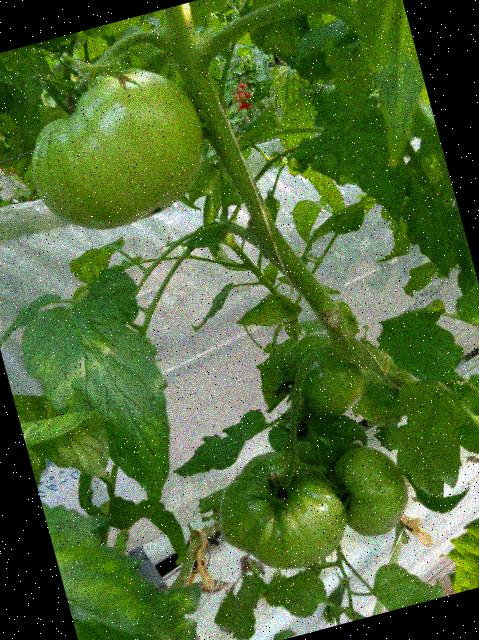b_green: (10, 52, 221, 246), (202, 437, 356, 586), (275, 325, 370, 429), (324, 438, 417, 544)
